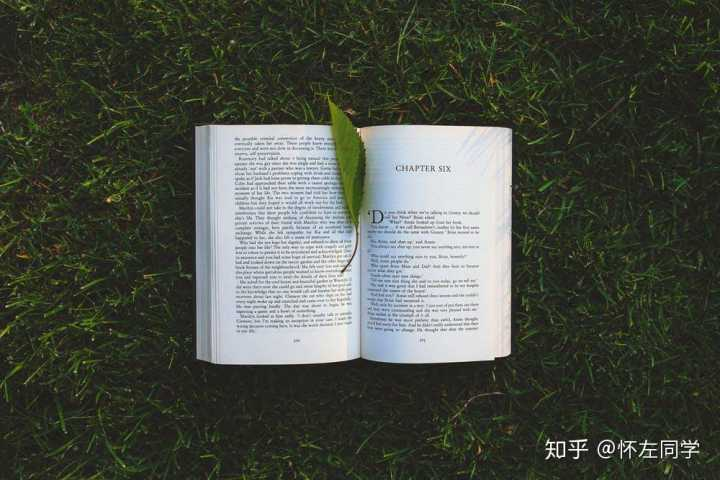book: (179, 112, 526, 379)
